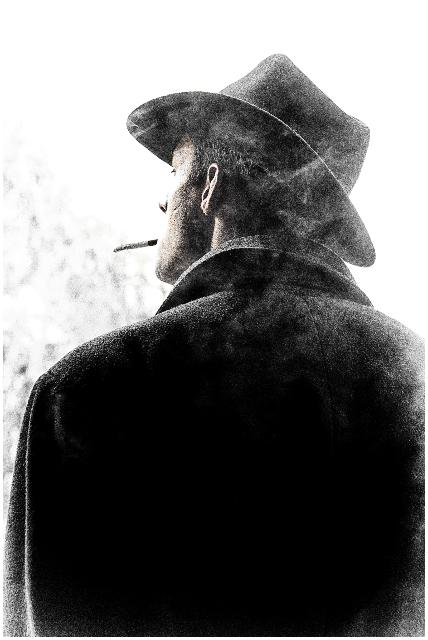Cigarette: (107, 227, 161, 255)
